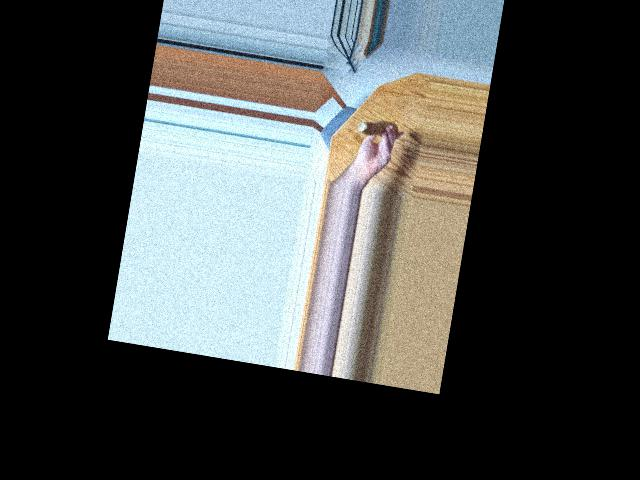sweet_potato: (363, 117, 397, 140)
